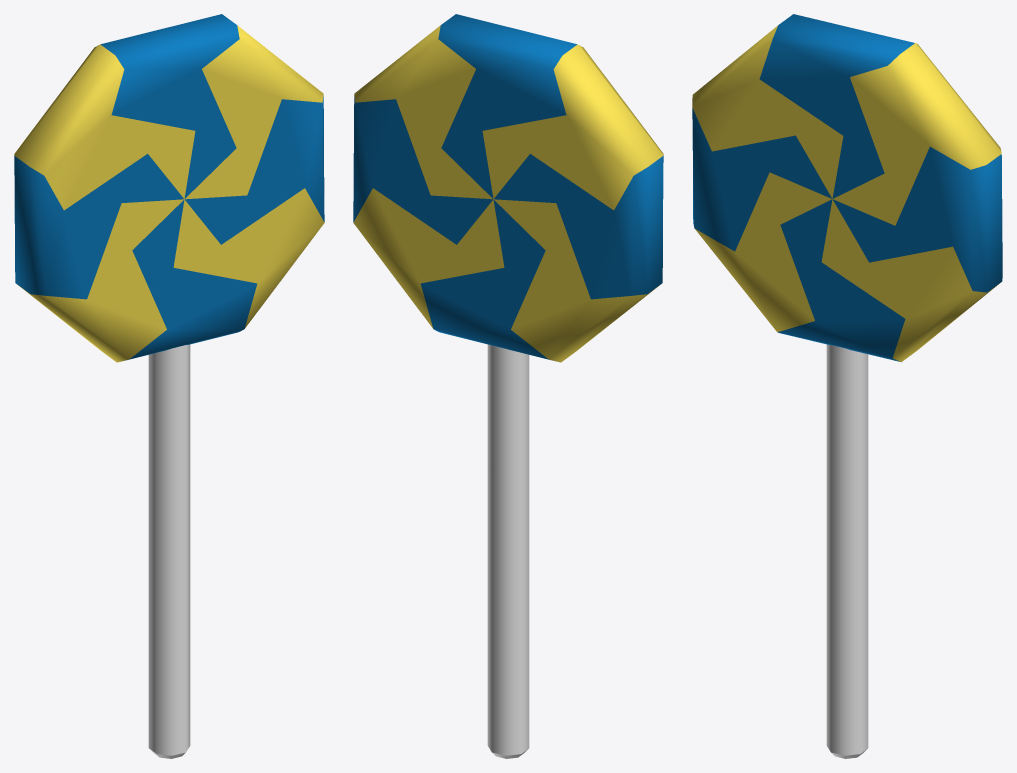
File: Candy_8.fbx
The picture shows the model from 3 angles, left to right: view 1: azimuth 30°, elevation 25°; view 2: azimuth 150°, elevation 25°; view 3: azimuth 330°, elevation 25°; orthographic projection.
Visible parts, largest first — view 1: Candy_8; view 2: Candy_8; view 3: Candy_8.
Boxes of the visible parts, <box> form: Candy_8: <box>14,14,324,758</box>; Candy_8: <box>353,14,663,758</box>; Candy_8: <box>692,14,1002,758</box>.
Size of the model in its own units: 1.22 by 2.85 by 0.2159.
